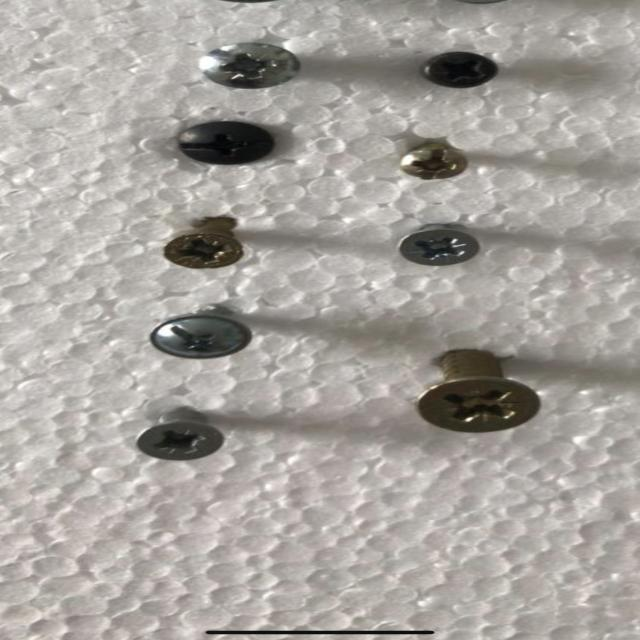PhillipsScrewHead: (416, 376, 542, 433), (197, 42, 299, 89), (148, 317, 253, 359), (178, 121, 276, 165), (136, 423, 226, 462), (397, 229, 483, 267), (161, 233, 246, 270), (425, 51, 503, 88), (397, 148, 470, 179)
